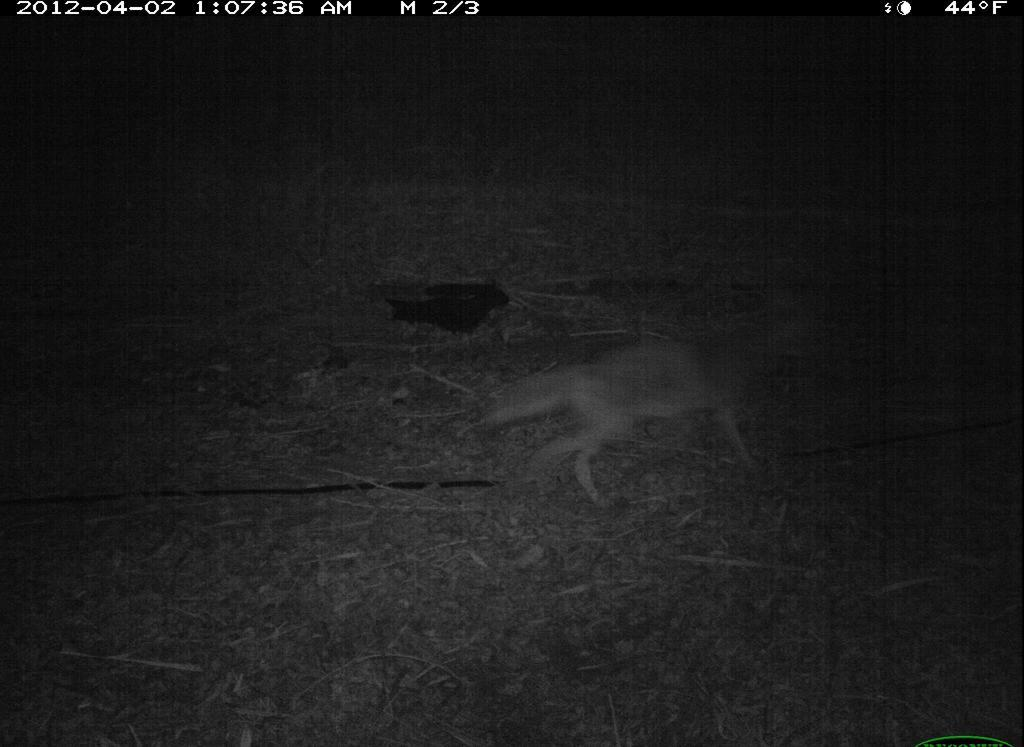coyote: (477, 328, 805, 501)
